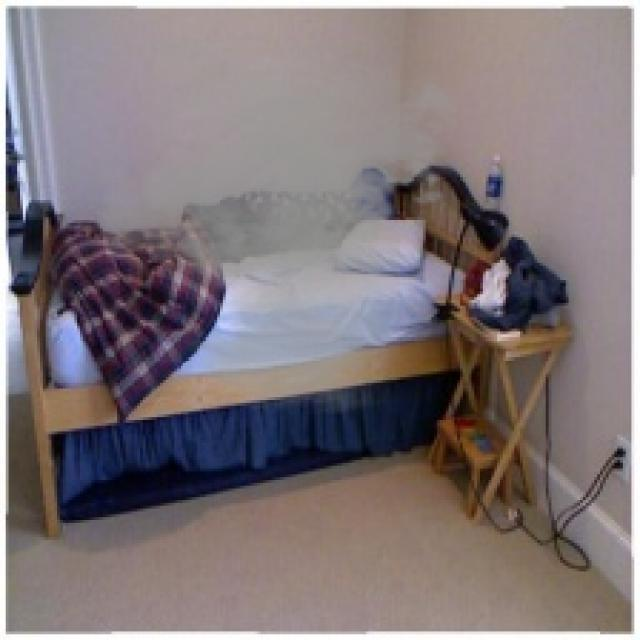Smoke: (82, 32, 468, 414)
